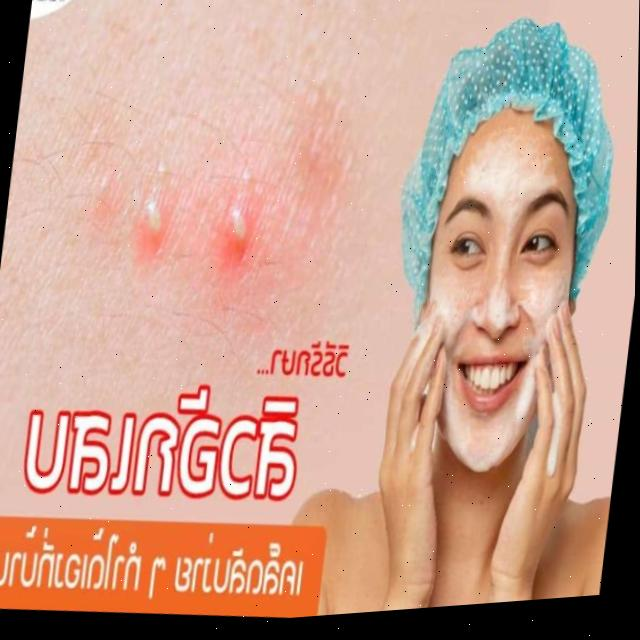Acne: (85, 148, 325, 316)
